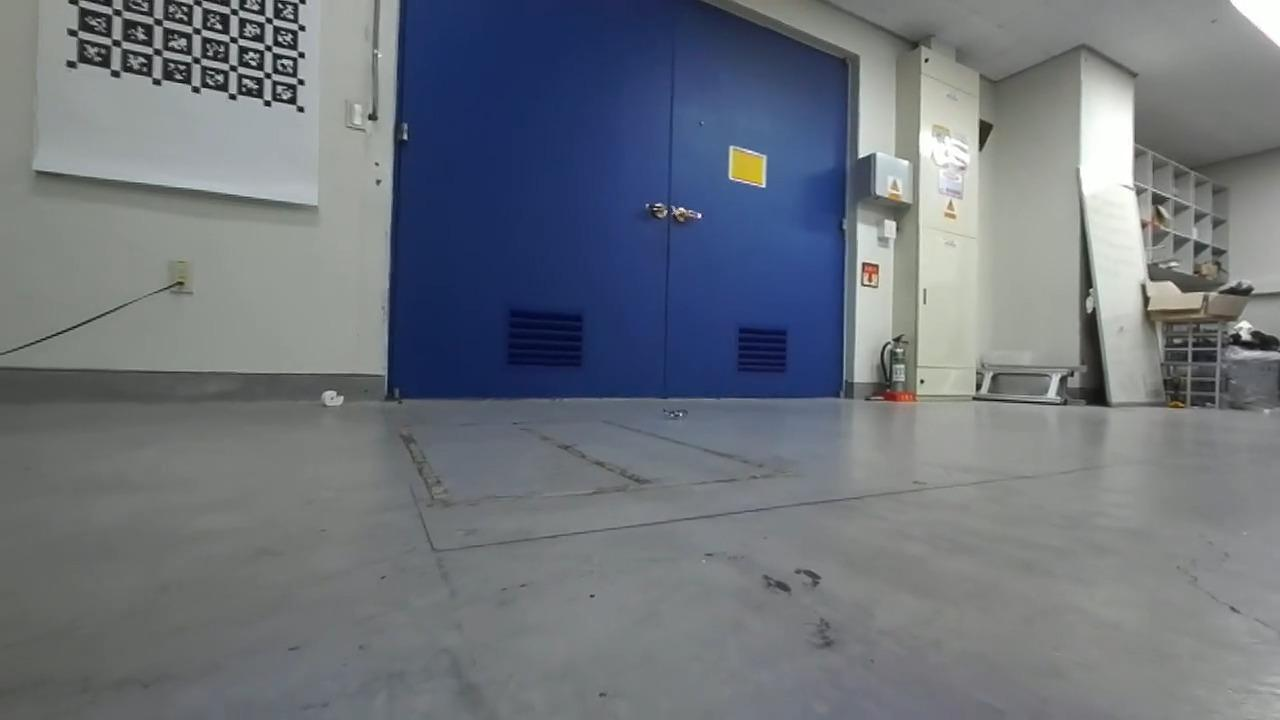crazyflie: (656, 400, 694, 426)
